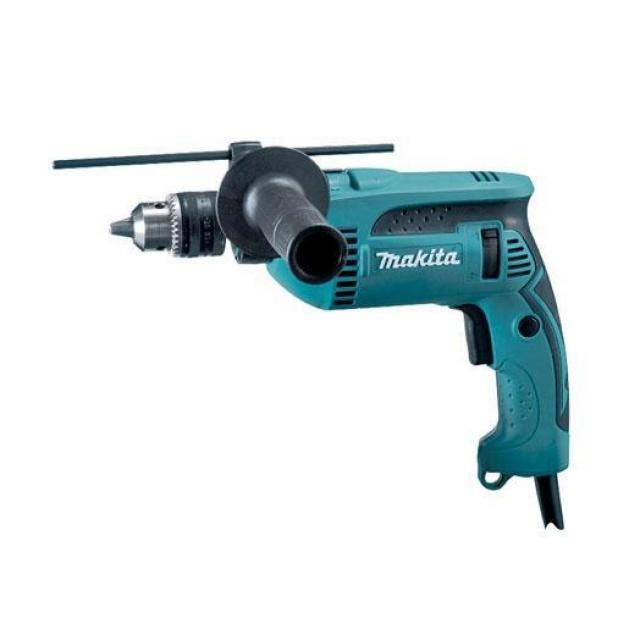drill: (51, 140, 572, 532)
